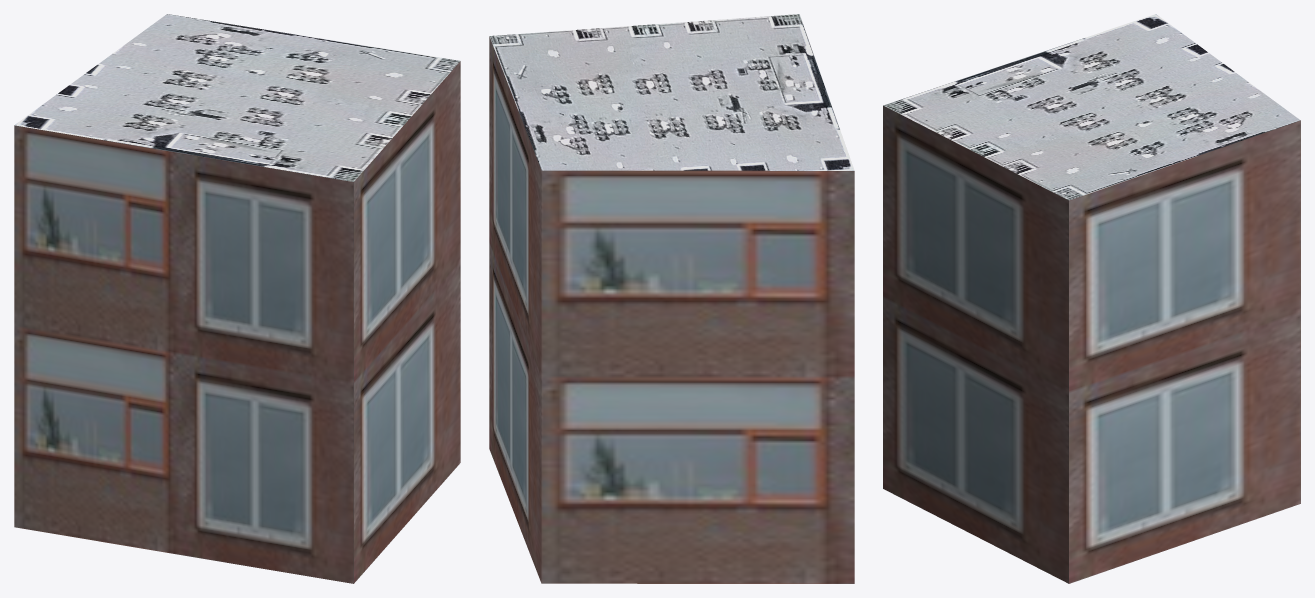
The model's file is ResTex__2512.fbx.
3 views of the same model, side by side, from view 1: azimuth 30°, elevation 25°; view 2: azimuth 150°, elevation 25°; view 3: azimuth 270°, elevation 25° (orthographic). The views are drawn at different scales.
Parts seen in each view (by area): view 1: CityEngineMaterial_19_m, CityEngineMaterial_15_m; view 2: CityEngineMaterial_19_m, CityEngineMaterial_15_m; view 3: CityEngineMaterial_19_m, CityEngineMaterial_15_m.
Part boxes in pixels (x1,y1,x2,y2): CityEngineMaterial_19_m: (14,61,460,583); CityEngineMaterial_15_m: (15,14,460,181); CityEngineMaterial_19_m: (489,36,854,583); CityEngineMaterial_15_m: (489,14,854,170); CityEngineMaterial_19_m: (883,105,1300,583); CityEngineMaterial_15_m: (883,14,1300,200).
Bounding box in the file's own units: 6.26 × 6 × 5.92.
Materials: 2 (2 with a texture image).
